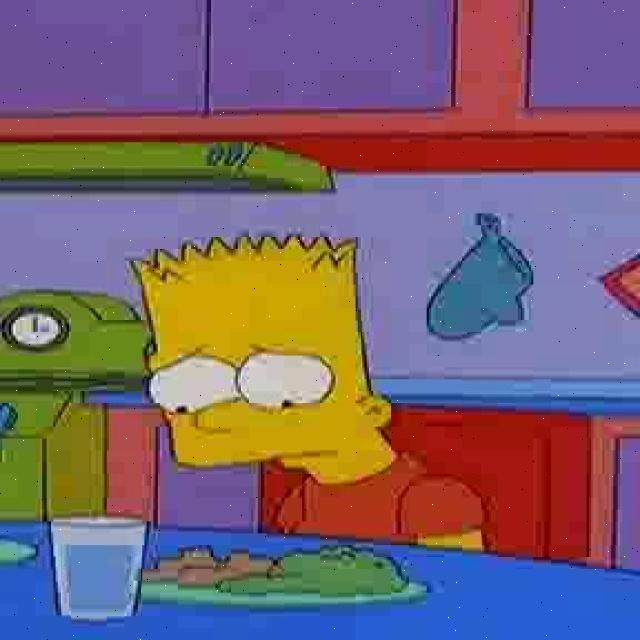Bart Simpson: (126, 227, 398, 487)
